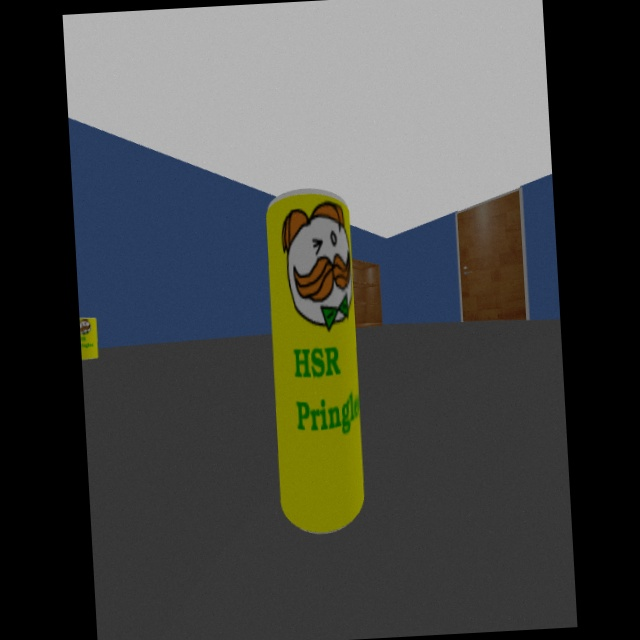chipsdose_gelb: (265, 188, 365, 535), (79, 317, 99, 361)
